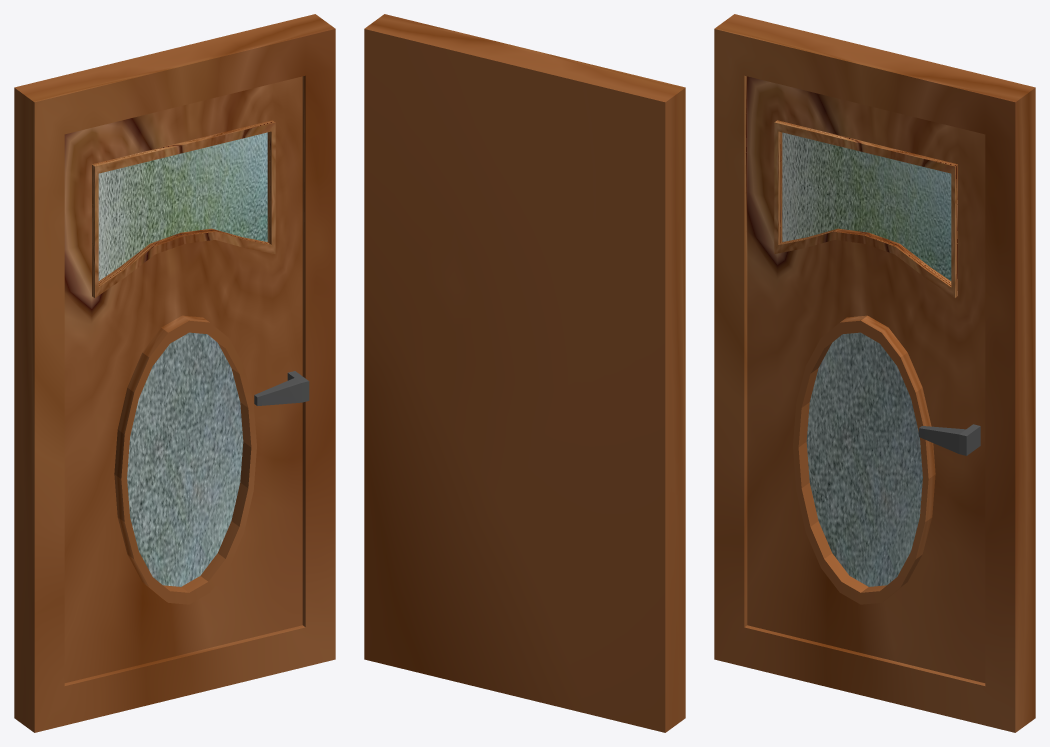
Rendered from Puerta_43.fbx.
3 renders of one model, left to right at view 1: azimuth 30°, elevation 25°; view 2: azimuth 150°, elevation 25°; view 3: azimuth 330°, elevation 25°, orthographic.
Visible parts, largest first — view 1: Cube.043; view 2: Cube.043; view 3: Cube.043.
Boxes of the visible parts, <box> form: Cube.043: <box>14,14,335,732</box>; Cube.043: <box>364,14,685,732</box>; Cube.043: <box>714,14,1035,732</box>.
Size of the model in its own units: 200 by 400 by 36.09.
